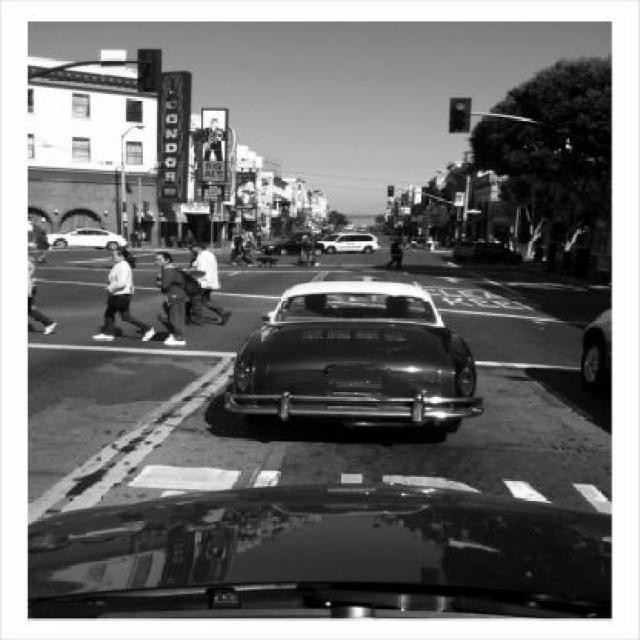car: (227, 278, 481, 436), (576, 295, 612, 406), (46, 228, 128, 250), (316, 232, 378, 256)
